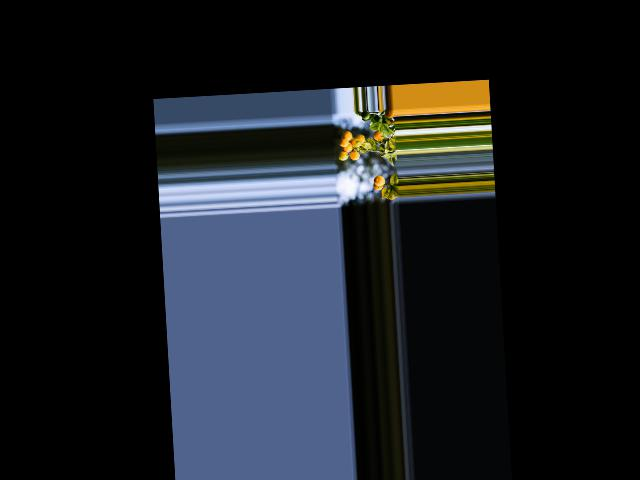lemon: (338, 131, 352, 142)
